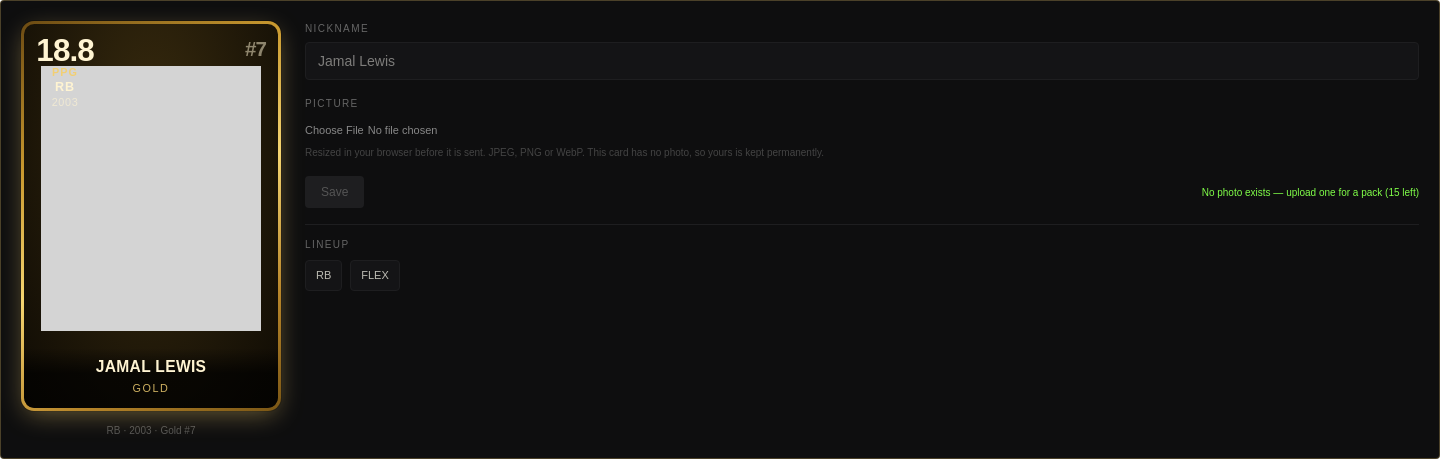
Test case: CardDetail › says a picture is what earns the pack
Type "The Bus" into the field labelled "Nickname" at (862, 61), box [305,42,1419,80]
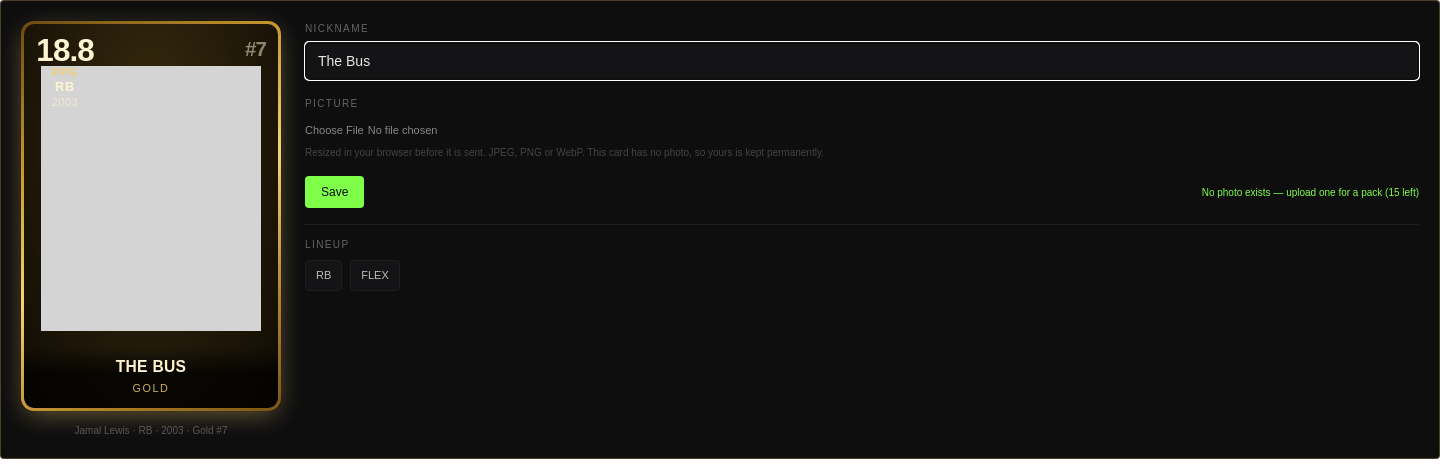
Click the button "Save" at (335, 192), box [305,176,364,208]
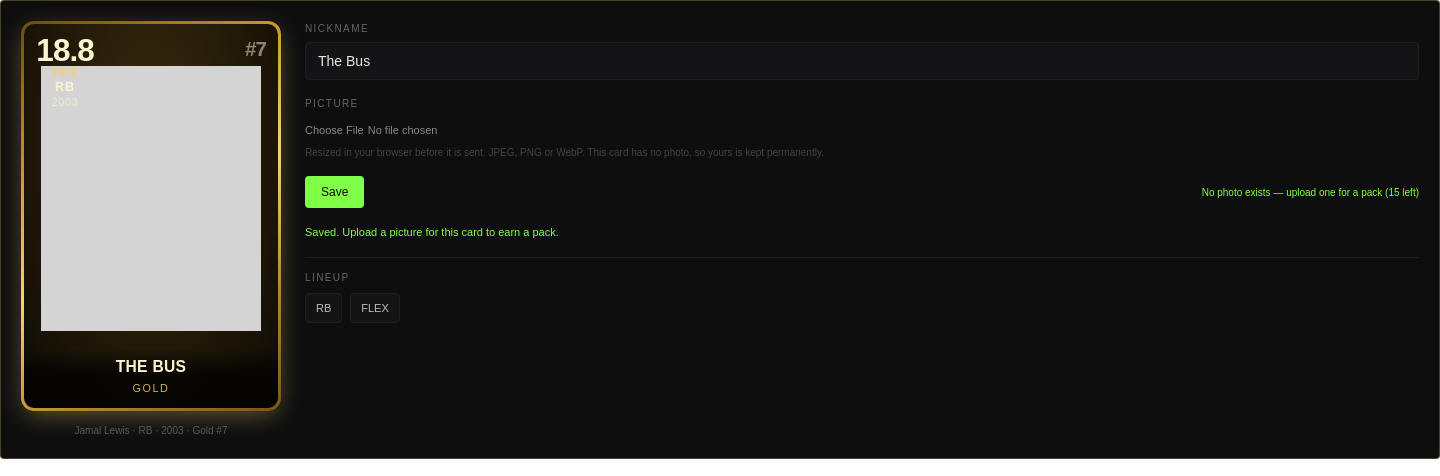
expect the text "Saved. Upload a picture for this card to earn a pack." is shown: met, box [305,226,559,238]
